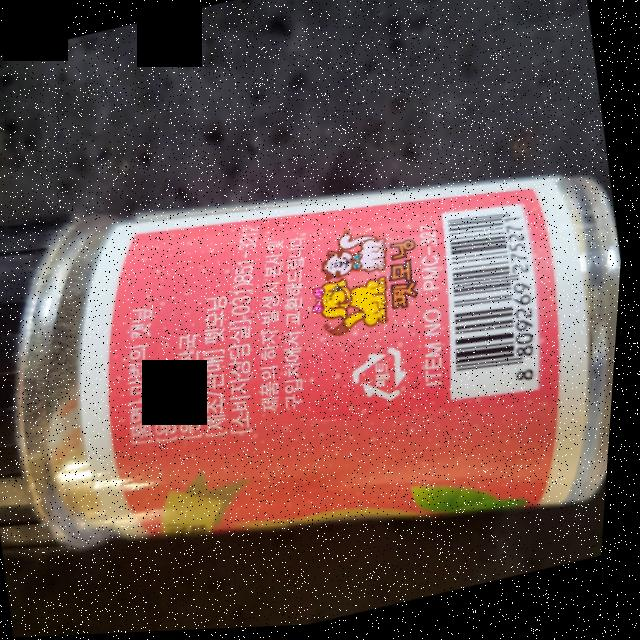PET: (347, 344, 422, 414)
